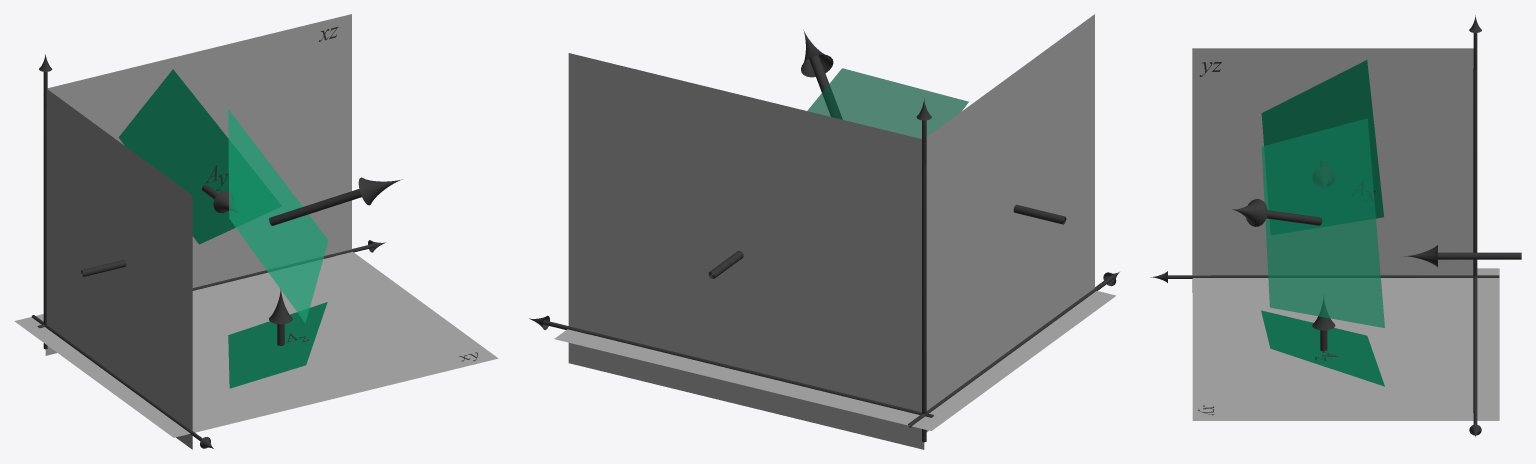
The model's file is 07_Components of area.glb.
3 views of the same model, side by side, from view 1: azimuth 30°, elevation 25°; view 2: azimuth 150°, elevation 25°; view 3: azimuth 270°, elevation 25° (orthographic). The views are drawn at different scales.
Parts seen in each view (by area): view 1: Plane, Plane.002, Plane.003, Plane.005, Plane.001, Plane.004, Cylinder.002, Cylinder.009, Cylinder.001, Cylinder.007, Cylinder.006, Cylinder.010; view 2: Plane, Plane.002, Plane.003, Plane.001, Cylinder.010, Cylinder.009, Cylinder.002, Cylinder.001; view 3: Plane.002, Plane.003, Plane.001, Plane.007, Plane.004, Cylinder.002, Cylinder.009, Cylinder.006, Cylinder.001, Cylinder.010, Cylinder.007, Cylinder.008.
Part boxes in pixels (x1,y1,x2,y2): Plane: [45, 14, 351, 355]; Plane.002: [46, 89, 192, 449]; Plane.003: [14, 251, 498, 437]; Plane.005: [118, 69, 281, 244]; Plane.001: [228, 109, 328, 323]; Plane.004: [228, 302, 327, 388]; Cylinder.002: [269, 177, 402, 225]; Cylinder.009: [43, 109, 47, 349]; Cylinder.001: [31, 315, 182, 426]; Cylinder.007: [269, 289, 292, 345]; Cylinder.006: [202, 185, 239, 213]; Cylinder.010: [37, 253, 335, 328]; Plane: [568, 53, 924, 449]; Plane.002: [926, 14, 1094, 431]; Plane.003: [554, 291, 1115, 430]; Plane.001: [807, 68, 968, 138]; Cylinder.010: [588, 331, 933, 417]; Cylinder.009: [922, 163, 926, 442]; Cylinder.002: [801, 30, 842, 119]; Cylinder.001: [908, 296, 1085, 427]; Plane.002: [1192, 48, 1473, 292]; Plane.003: [1192, 268, 1499, 420]; Plane.001: [1261, 118, 1384, 327]; Plane.007: [1261, 60, 1383, 234]; Plane.004: [1261, 310, 1384, 386]; Cylinder.002: [1232, 199, 1322, 226]; Cylinder.009: [1473, 69, 1477, 276]; Cylinder.006: [1404, 245, 1521, 267]; Cylinder.001: [1210, 275, 1499, 277]; Cylinder.010: [1473, 276, 1477, 412]; Cylinder.007: [1312, 299, 1335, 351]; Cylinder.008: [1312, 159, 1334, 189].
Size of the model in its own units: 4.45 by 3.61 by 3.88.
